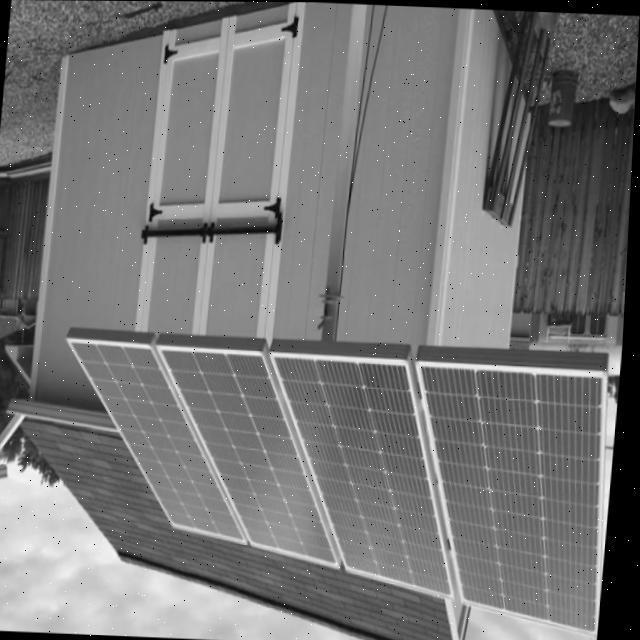Normal Solar Panel: (402, 346, 626, 632), (261, 340, 478, 596), (146, 334, 358, 562), (55, 328, 266, 540)
